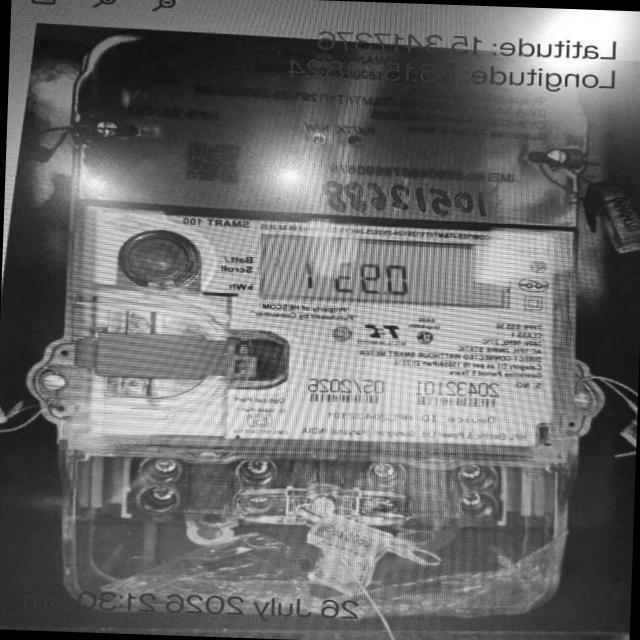meter: (57, 35, 588, 452)
